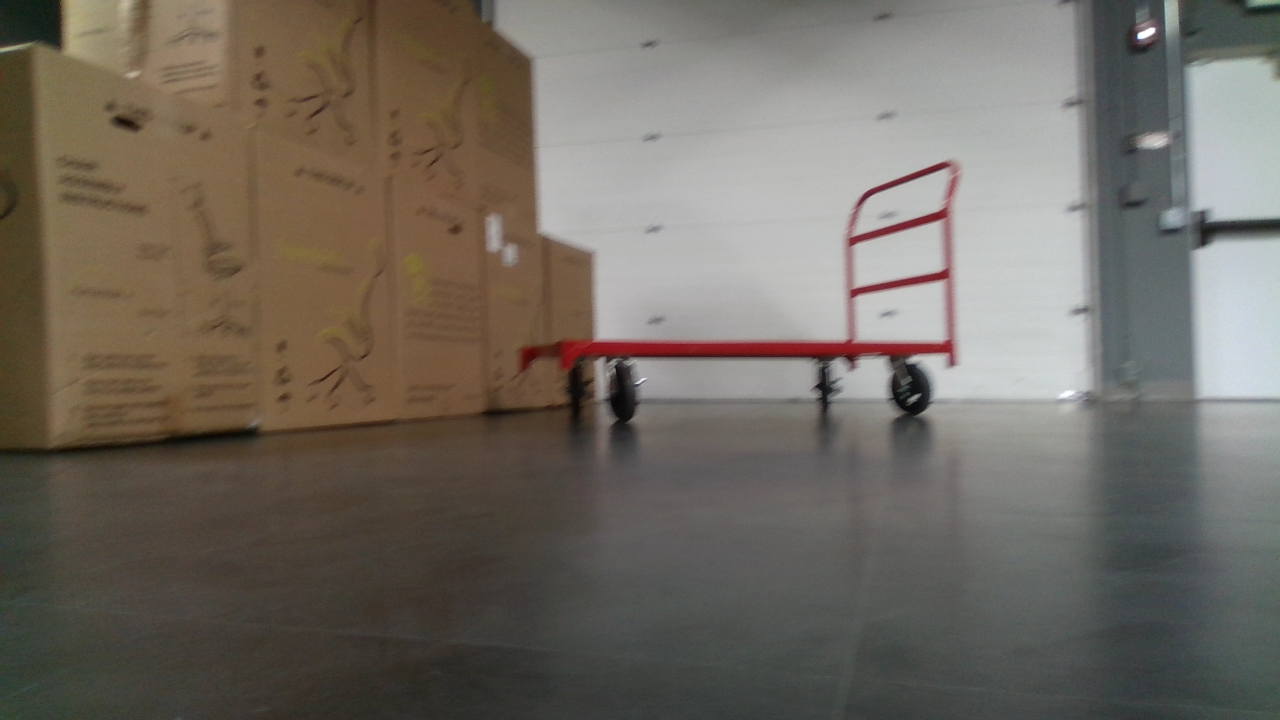Dolly: (520, 158, 964, 427)
Wheel: (597, 355, 648, 423), (885, 353, 934, 417), (553, 363, 595, 425), (808, 359, 843, 423)
